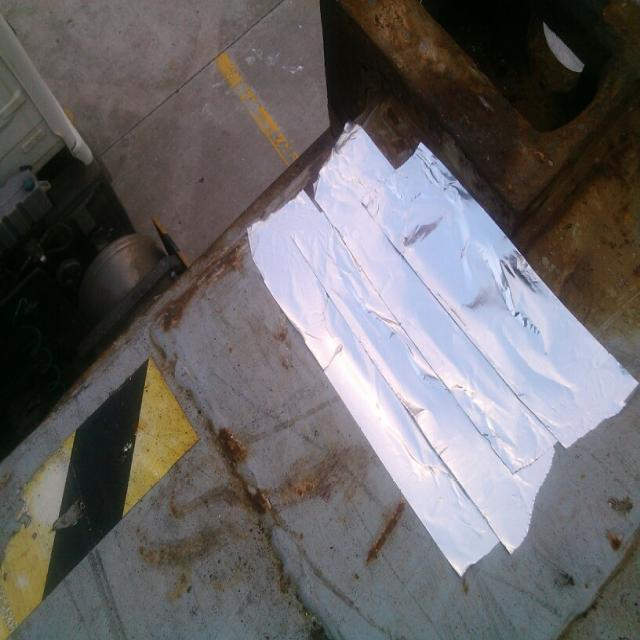rust: (153, 246, 246, 338), (368, 502, 406, 569), (239, 477, 277, 529), (214, 422, 251, 475), (601, 523, 630, 562)
